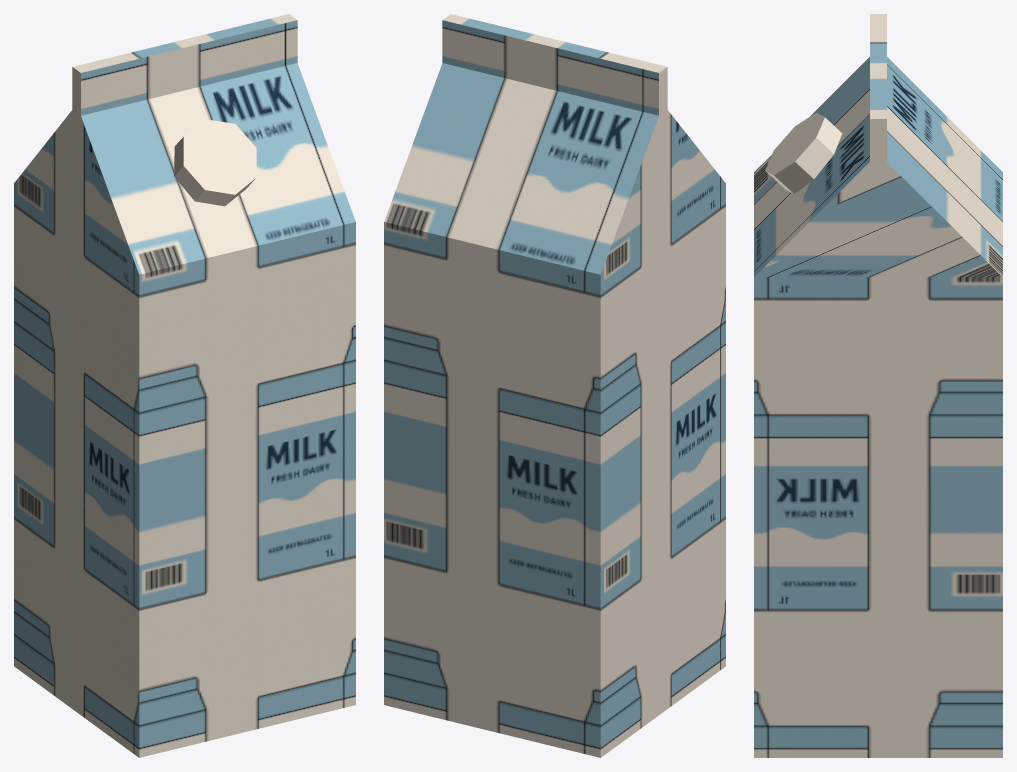
Rendered from K_Milk.glb.
3 renders of one model, left to right at view 1: azimuth 30°, elevation 25°; view 2: azimuth 150°, elevation 25°; view 3: azimuth 270°, elevation 25°, orthographic.
Visible parts, largest first — view 1: Kitchen_Milk; view 2: Kitchen_Milk; view 3: Kitchen_Milk.
Boxes of the visible parts, bbox=[...] form: Kitchen_Milk: bbox=[14, 14, 355, 757]; Kitchen_Milk: bbox=[384, 14, 725, 757]; Kitchen_Milk: bbox=[754, 14, 1002, 757].
Size of the model in its own units: 0.1937 by 0.5488 by 0.1937.
1 material, 1 textured.
